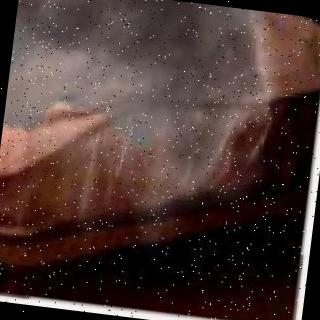smoke: (0, 0, 278, 206)
